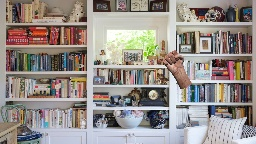Pugno: (160, 49, 185, 71)
